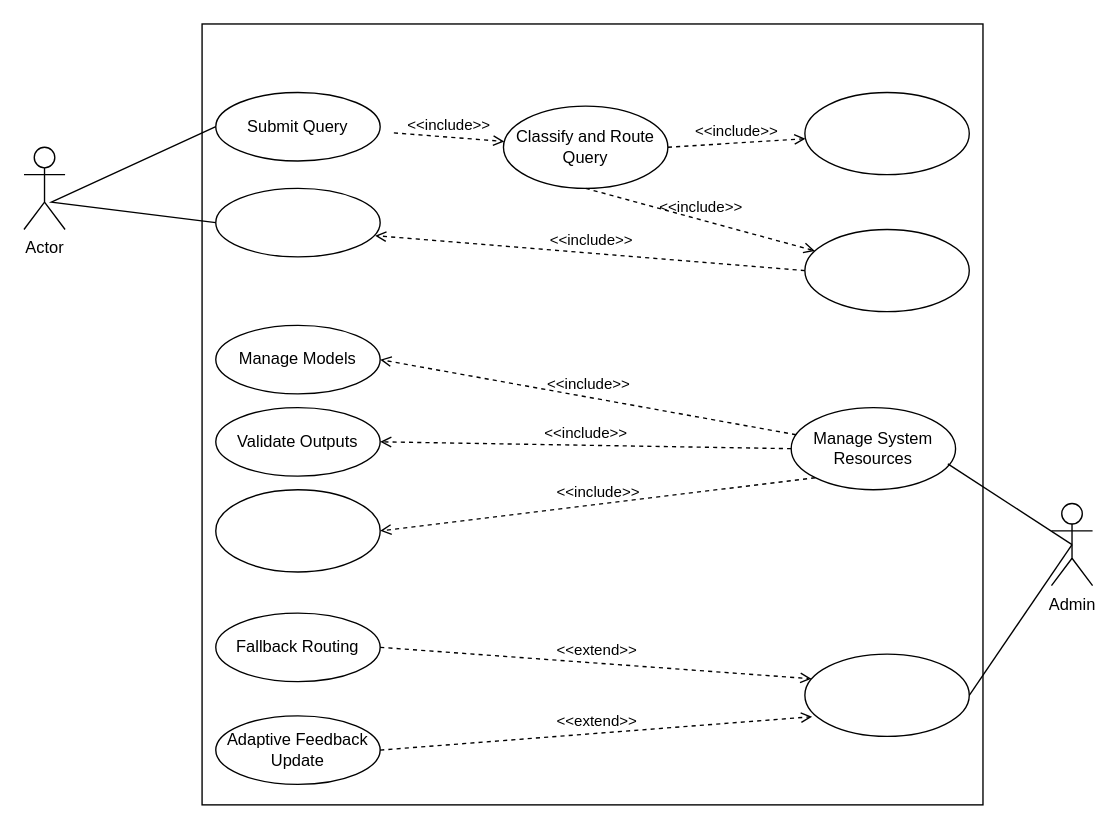
This 1119x829 diagram has some shape labels left out. Each missing label, with the box of its shape:
Generate Explanation: (804, 228, 969, 312)
Monitor Performance Dashboard: (214, 488, 380, 572)
Store Query Logs: (804, 91, 969, 175)
System Maintenance: (804, 653, 969, 736)
View Results: (214, 187, 380, 257)
